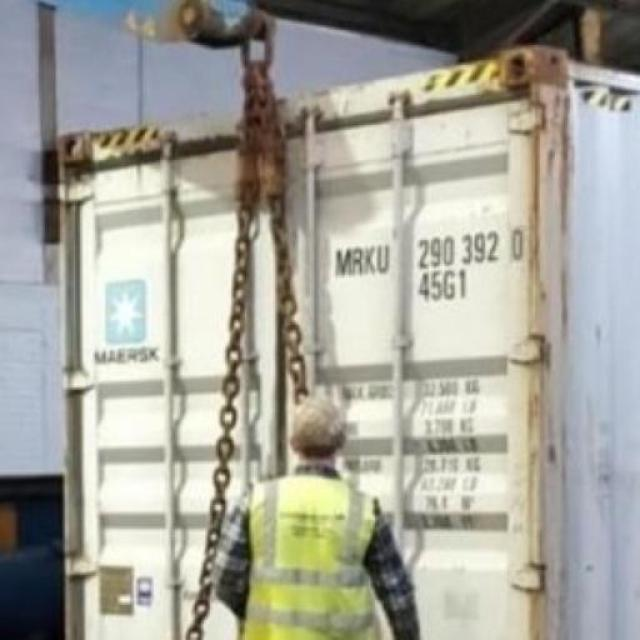ISO: (418, 270, 471, 300)
container_number: (335, 234, 522, 277)
